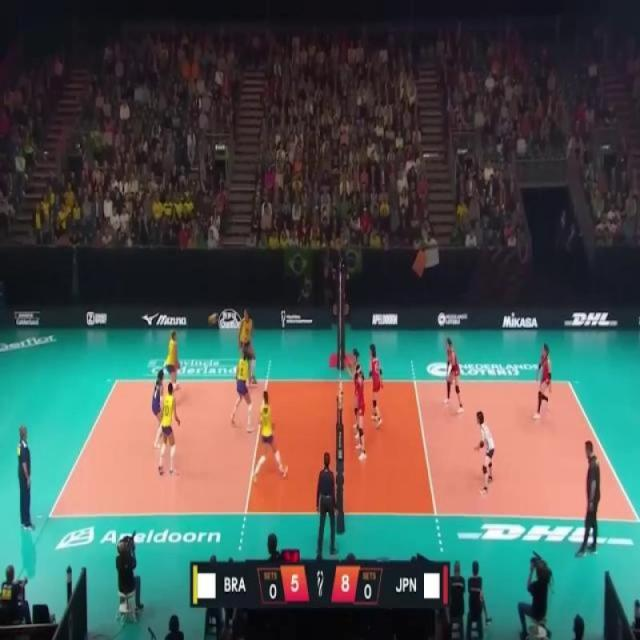volleyball: (208, 312, 218, 325)
